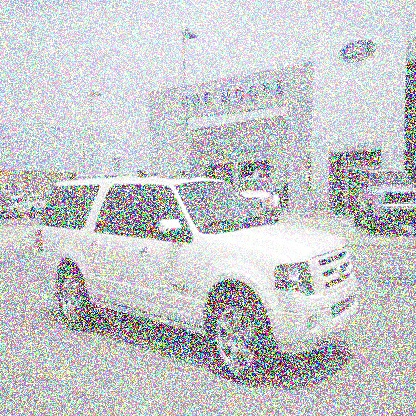Vehicle: (38, 172, 362, 384)
